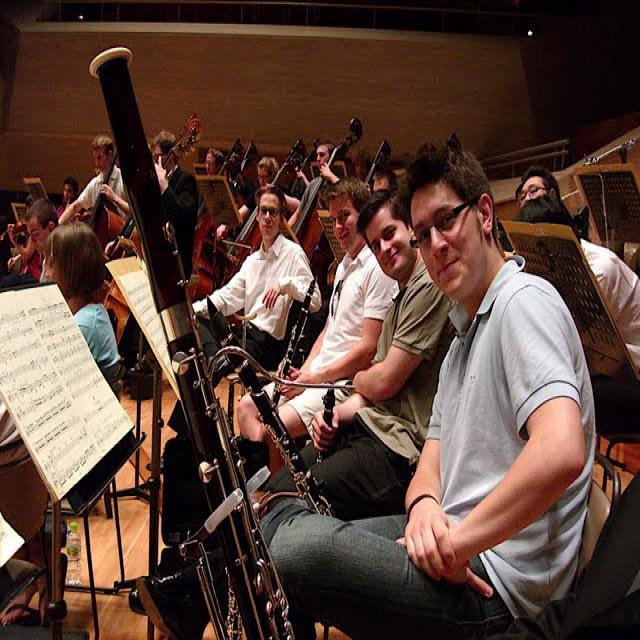cello: (102, 116, 206, 344), (216, 135, 307, 293), (282, 115, 368, 262), (187, 136, 256, 302), (190, 134, 242, 231), (81, 143, 124, 236)
clarinet: (82, 38, 299, 640), (199, 289, 335, 526), (267, 274, 322, 418), (317, 373, 336, 470)
